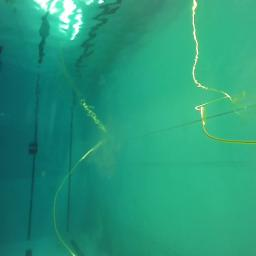Full: (28, 142, 39, 155)
